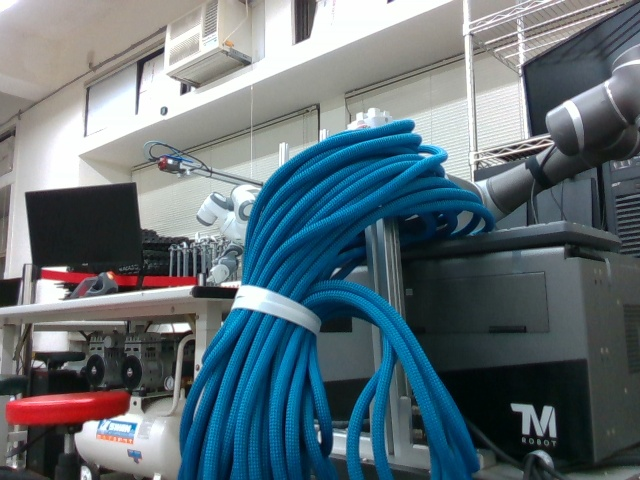rope: (177, 116, 482, 480)
